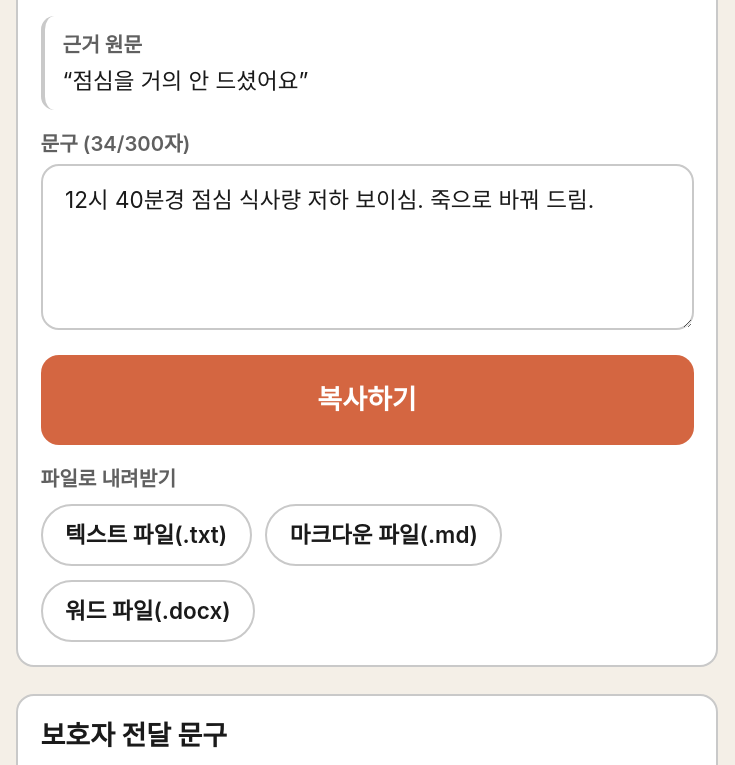
Test: 기록·보호자 전달 문구 화면 (n36~n40) › 복사에 성공하면 복사 완료를 안내한다
This screenshot has width=735, height=765.
(page scrolled)
Click the button "복사하기" at {"x": 367, "y": 400}, box 40,355 -> 694,445
(page scrolled)
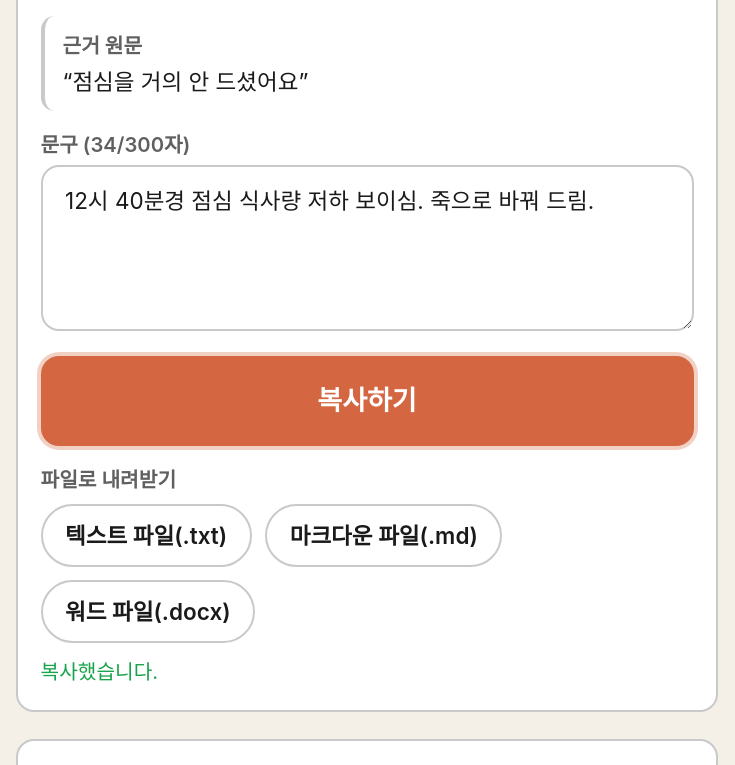
expect the text "복사했습니다." is shown: met, box 40,659 -> 158,684
